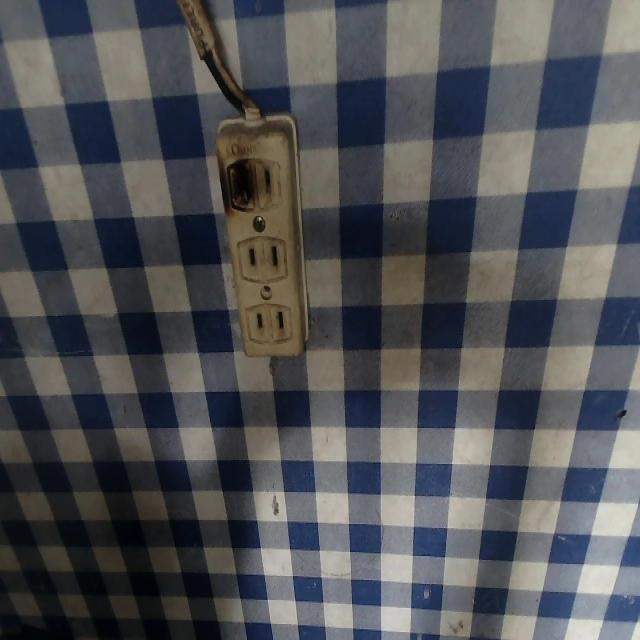-: (219, 134, 262, 222)
